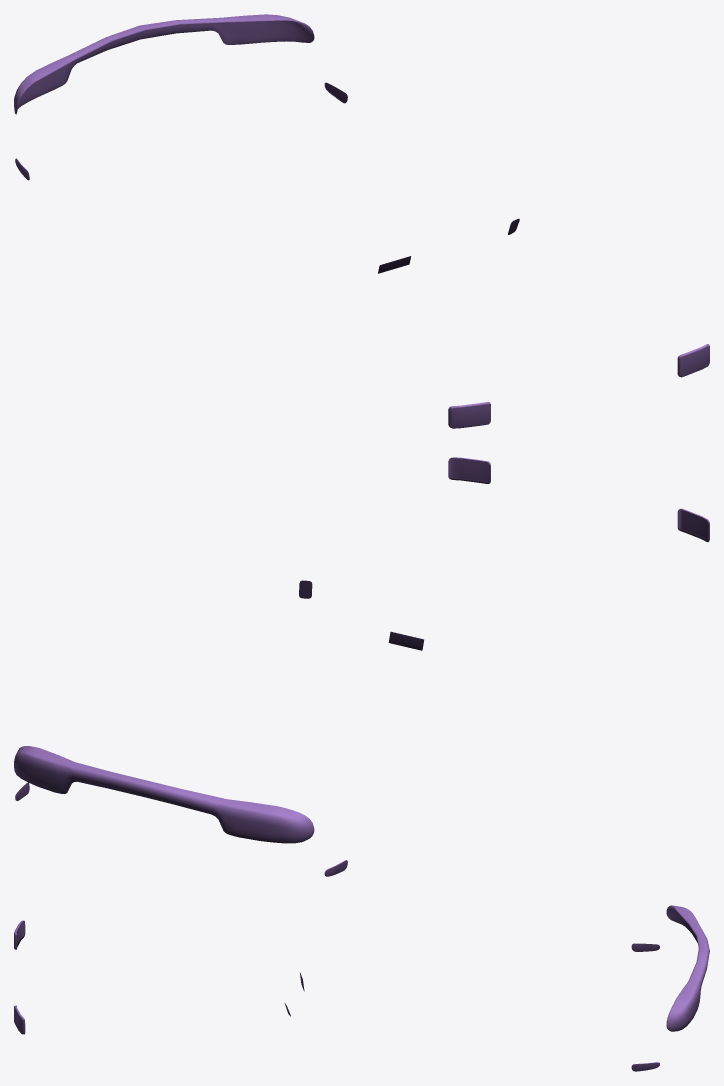
Rendered from RX7_Chassis_Detail.fbx.
The picture shows the model from 3 angles, top to bottom: view 1: azimuth 30°, elevation 25°; view 2: azimuth 150°, elevation 25°; view 3: azimuth 270°, elevation 25°; orthographic projection. The views are drawn at different scales.
Visible parts, largest first — view 1: RX7_Chassis_Detail; view 2: RX7_Chassis_Detail; view 3: RX7_Chassis_Detail.
Part boxes in pixels (x1,y1,x2,y2): RX7_Chassis_Detail: [14, 14, 709, 428]; RX7_Chassis_Detail: [14, 457, 709, 876]; RX7_Chassis_Detail: [14, 905, 709, 1071].
Bounding box in the file's own units: 164 × 40.5 × 397.
